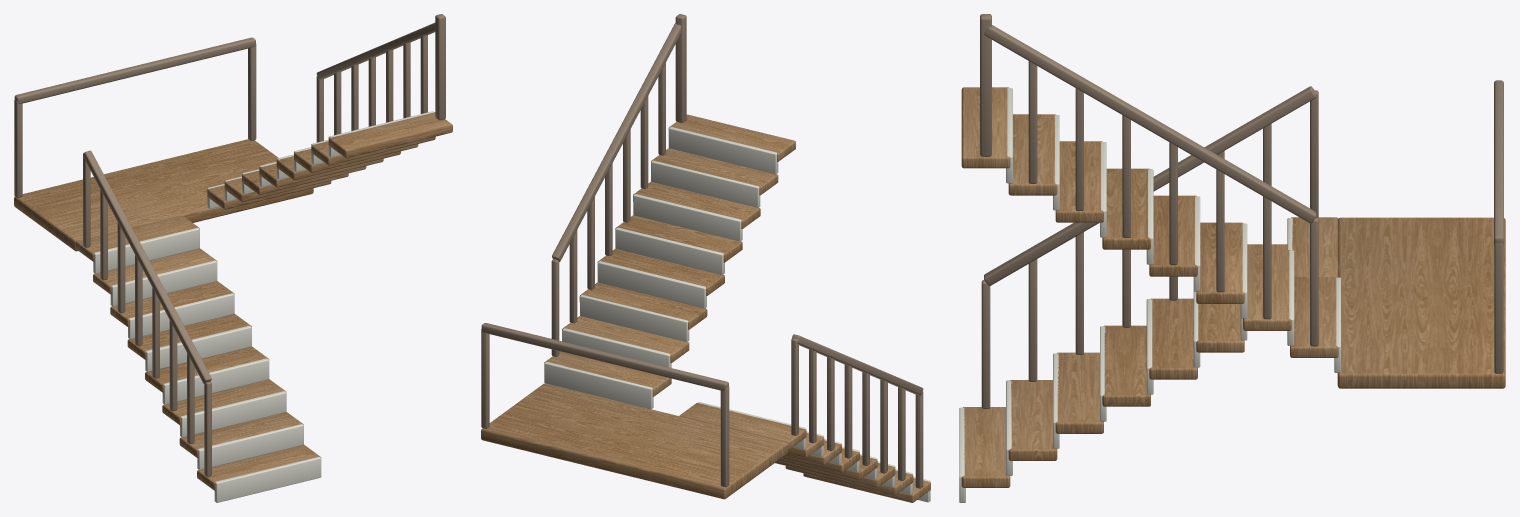
The model's file is stairs-switchback.glb.
3 views of the same model, side by side, from view 1: azimuth 30°, elevation 25°; view 2: azimuth 150°, elevation 25°; view 3: azimuth 270°, elevation 25° (orthographic). The views are drawn at different scales.
Parts seen in each view (by area): view 1: catalog_surface_RealismUV; view 2: catalog_surface_RealismUV; view 3: catalog_surface_RealismUV.
Part boxes in pixels (x1=…): catalog_surface_RealismUV: x1=14, y1=14, x2=452, y2=502; catalog_surface_RealismUV: x1=481, y1=14, x2=930, y2=502; catalog_surface_RealismUV: x1=959, y1=14, x2=1505, y2=502.
Bounding box in the file's own units: 2.2 × 3.7 × 3.2.
3 materials, 1 textured.
